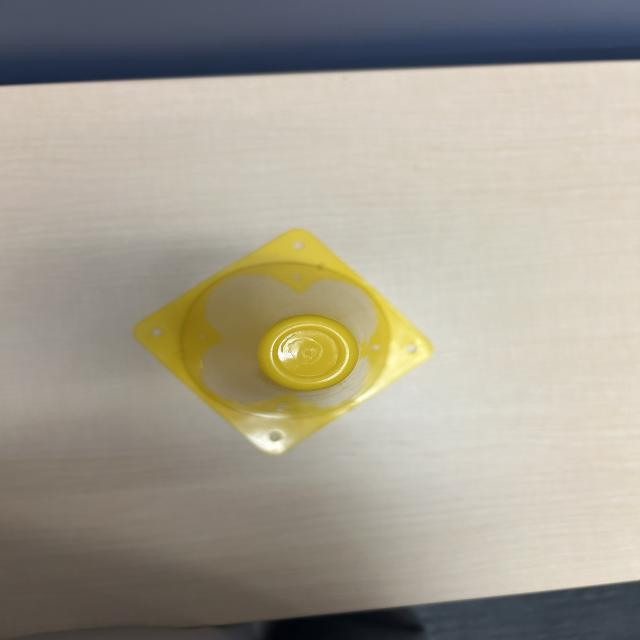yellow cone: (123, 223, 434, 460)
